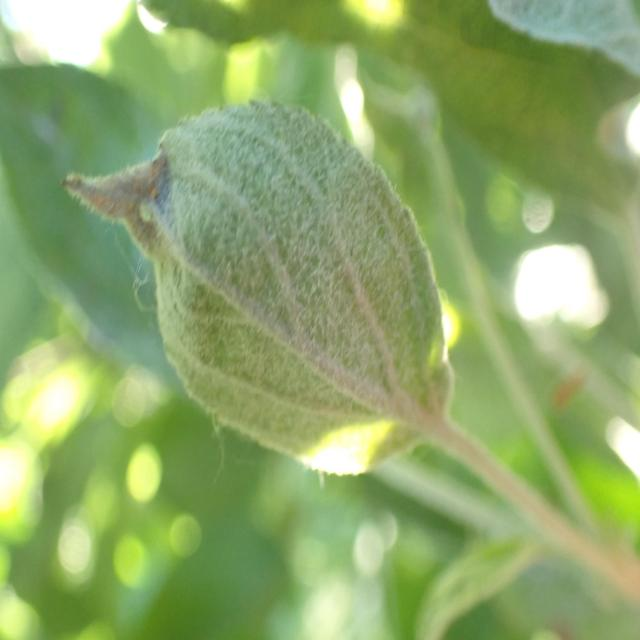Powdery_mildew: (49, 80, 471, 502)
